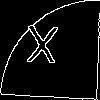X: (25, 25, 59, 74)
